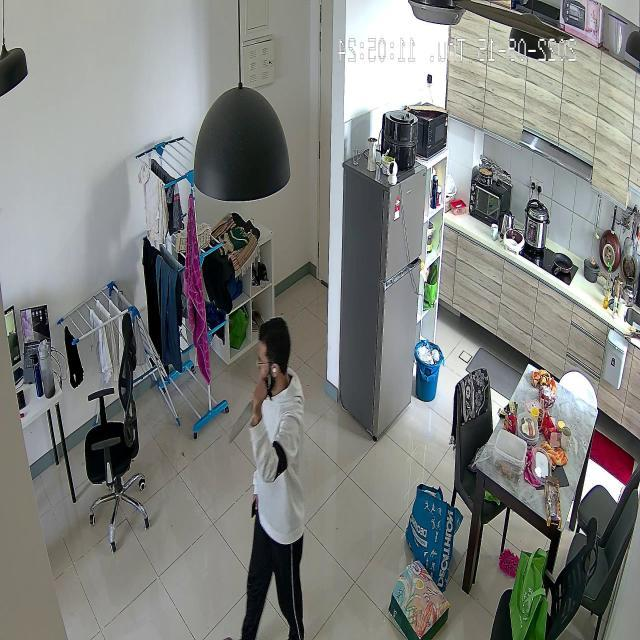Knife: (222, 379, 278, 446)
